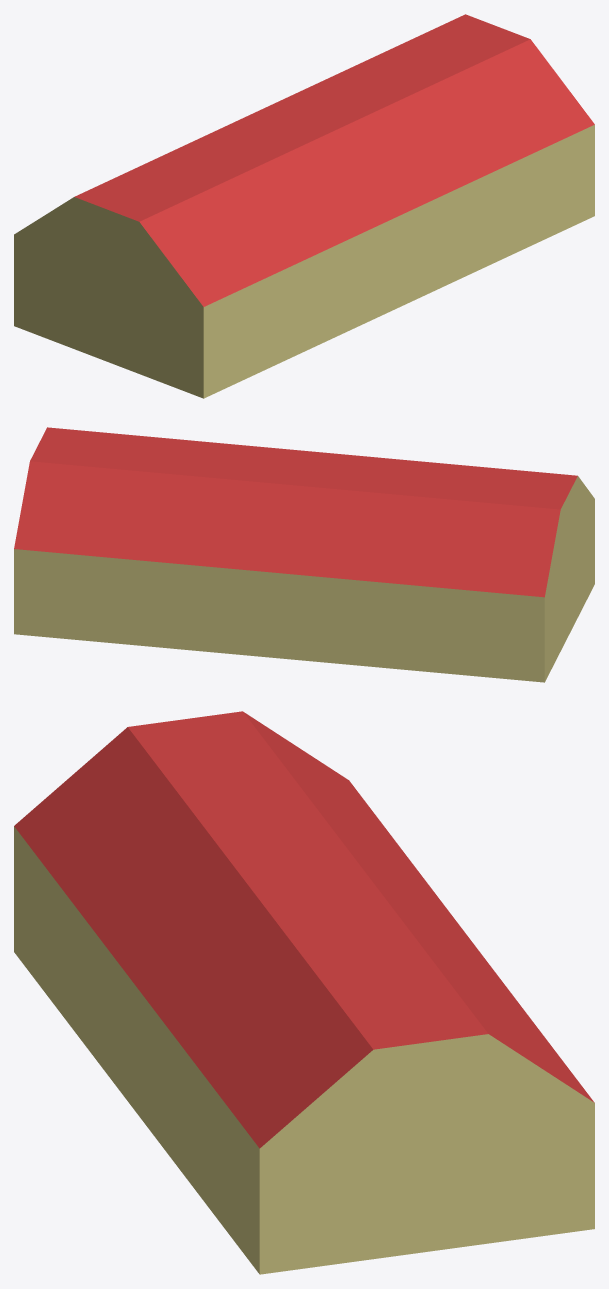
The picture shows the model from 3 angles, top to bottom: view 1: azimuth 30°, elevation 25°; view 2: azimuth 150°, elevation 25°; view 3: azimuth 270°, elevation 25°; orthographic projection. The views are drawn at different scales.
Size of the model in its own units: 29.25 by 19.5 by 7.76.
